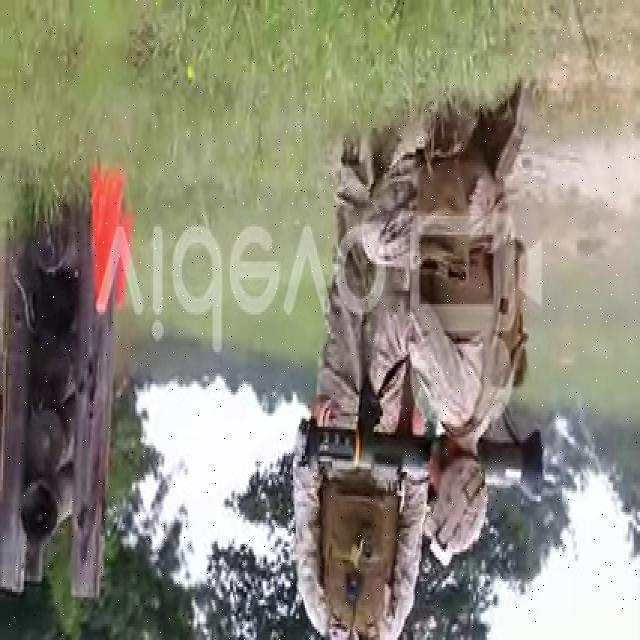bazooka: (292, 423, 551, 506)
